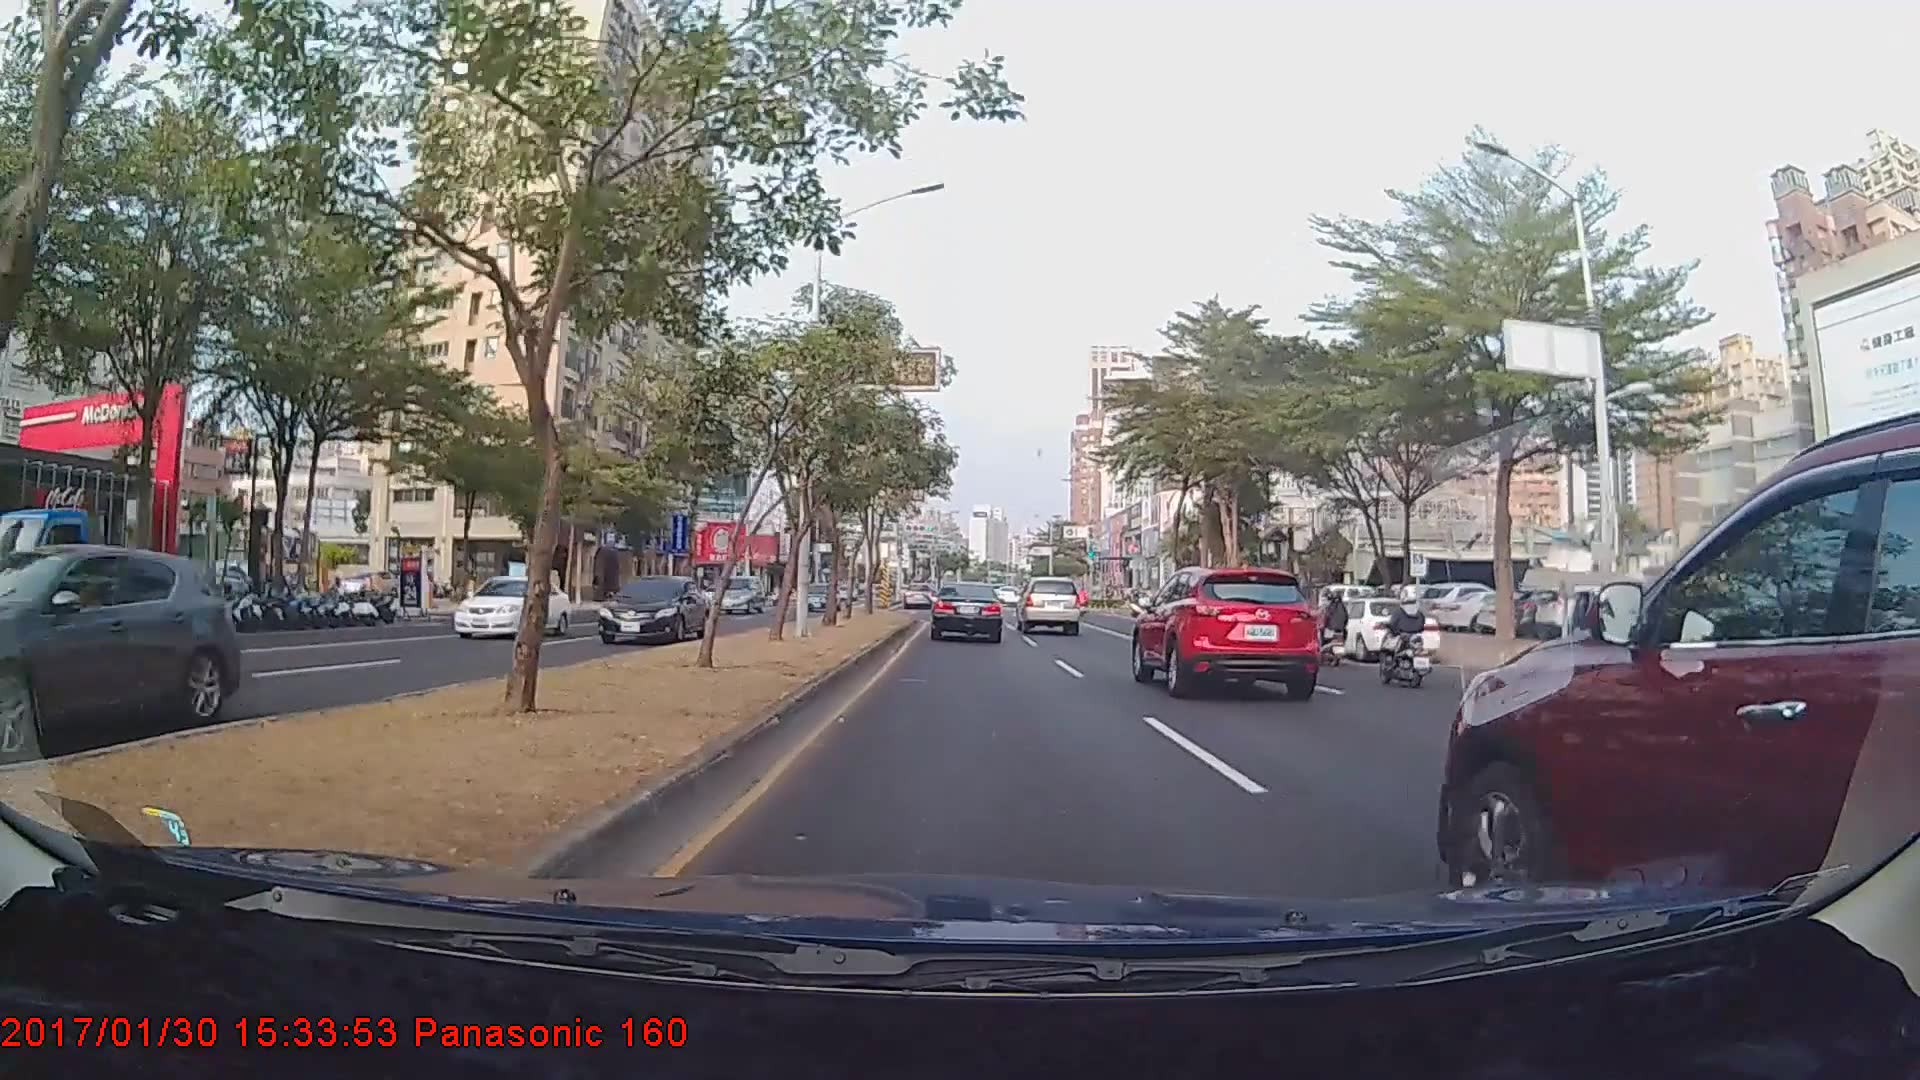rider: (1370, 583, 1438, 687)
vehicle: (1435, 407, 1920, 959), (0, 543, 237, 760), (1129, 560, 1320, 699), (1316, 594, 1439, 660), (596, 573, 714, 642), (452, 573, 569, 637), (929, 580, 1003, 643), (1016, 575, 1081, 634), (711, 573, 766, 613), (800, 580, 841, 611), (902, 583, 936, 610)
